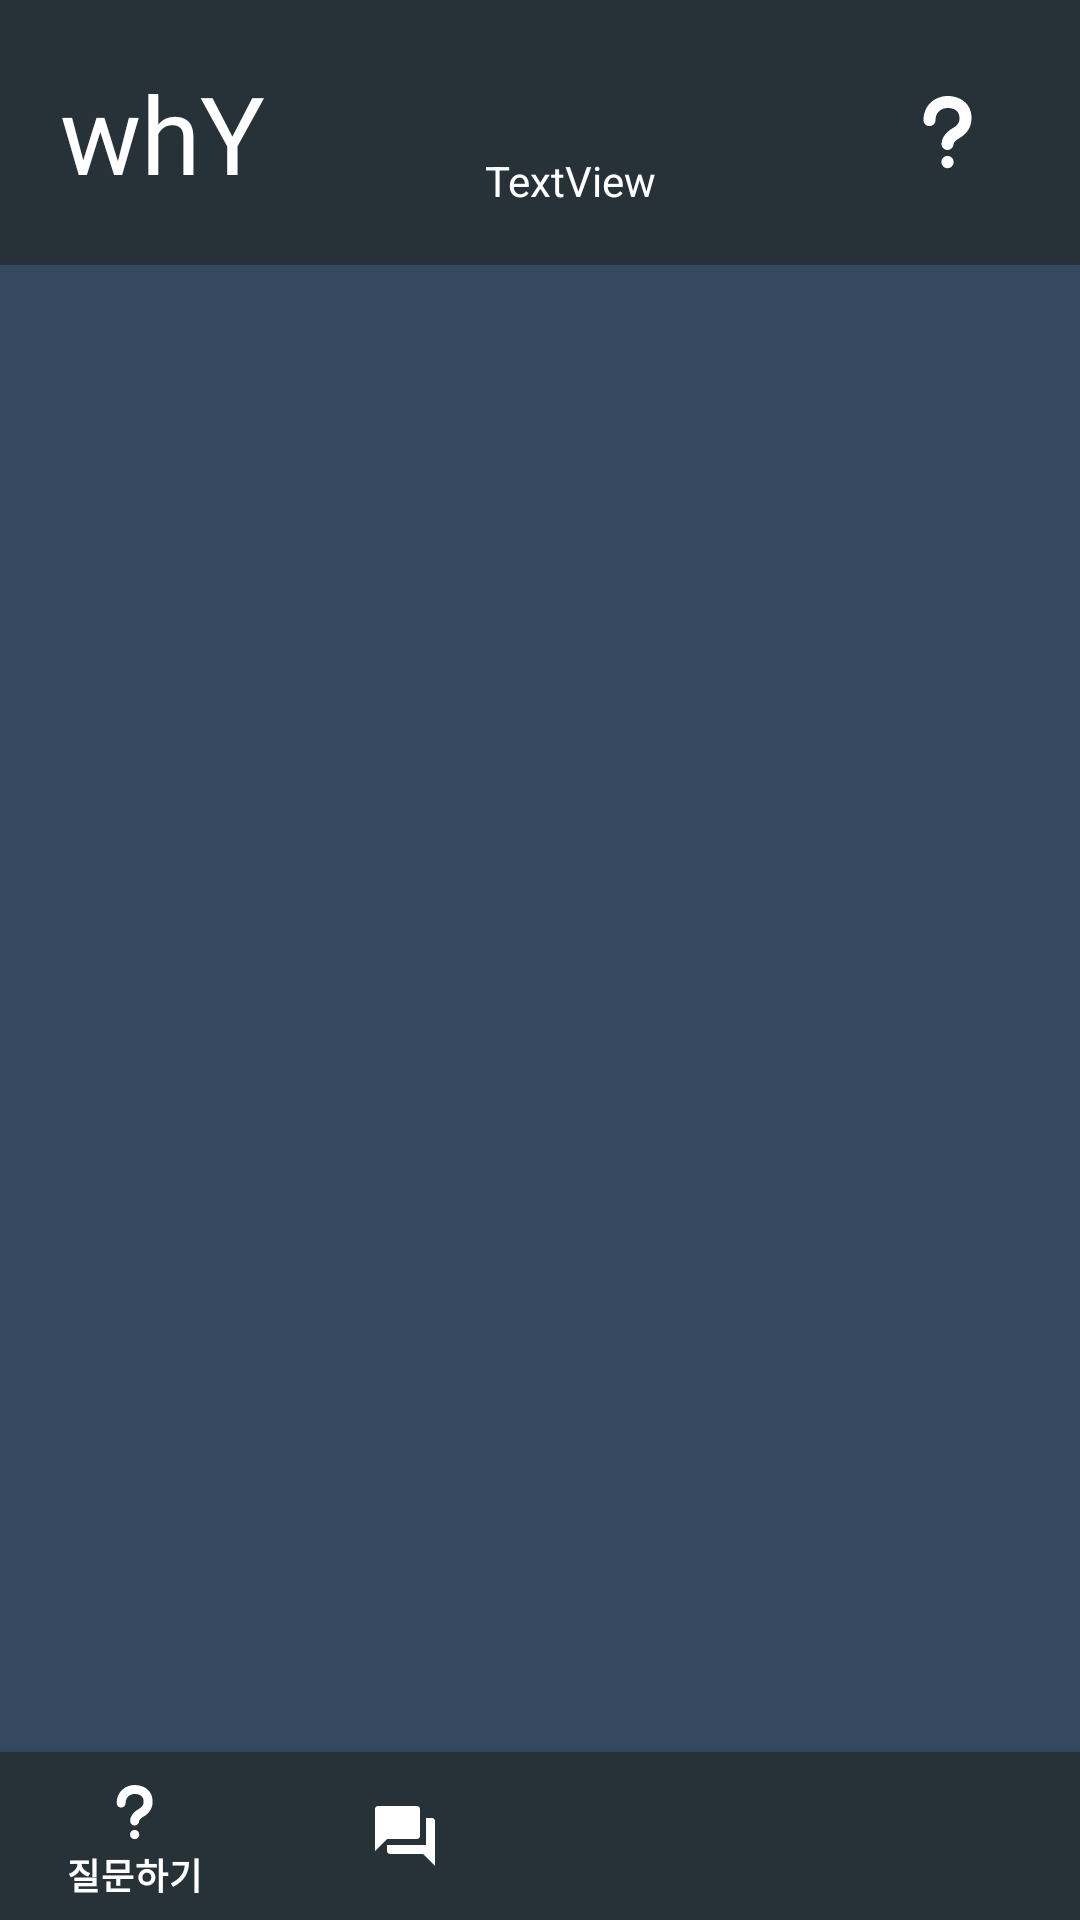

Icons on this 1080px×1920px Android screen, each with the point to tap as (x=x, y=y):
question: (x=947, y=132)
